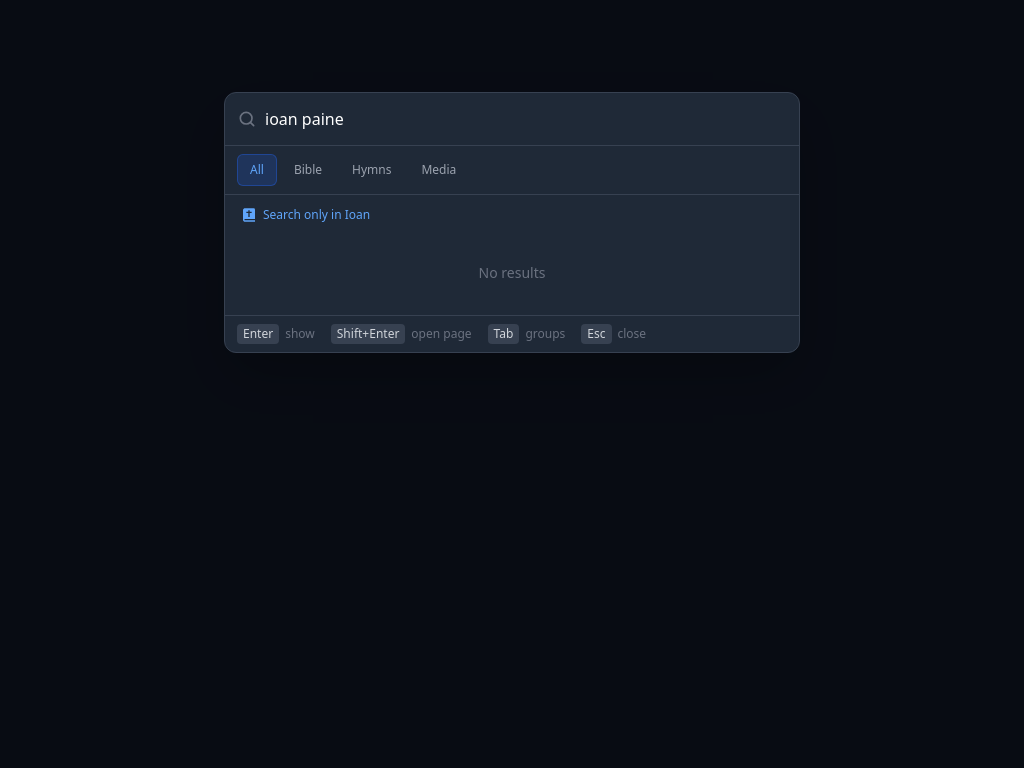
QuickSearch syntax › rewrites the query when the book suggestion is picked
Click the button "Search only in Ioan" at (317, 215), box [233,203,791,227]
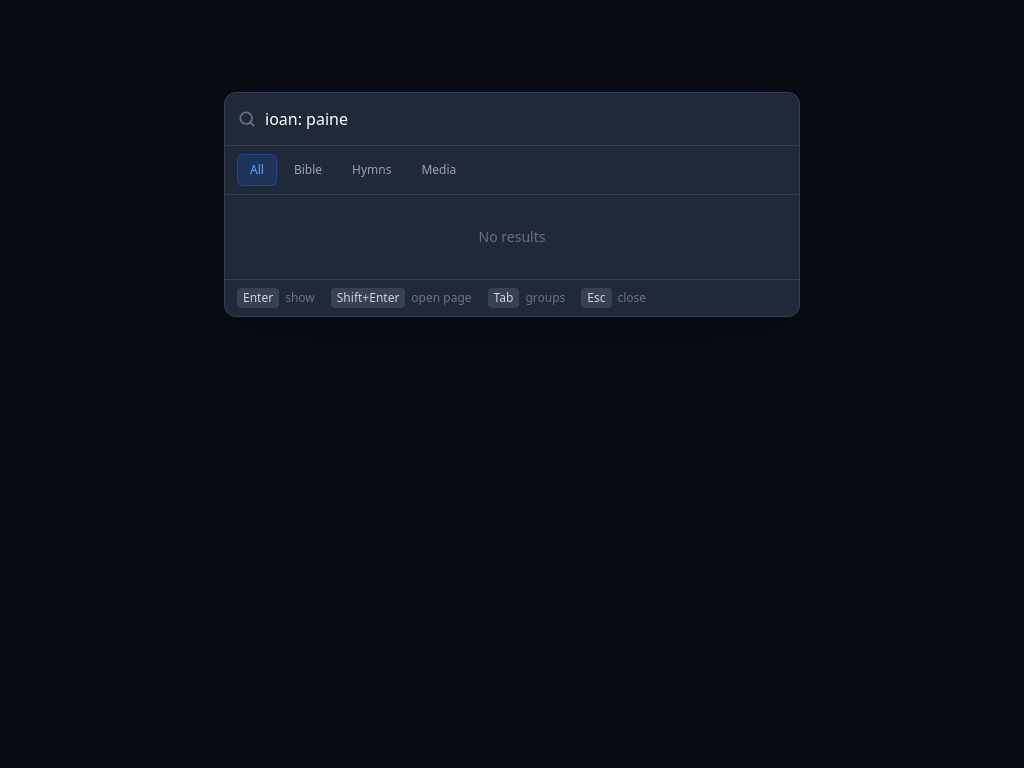
Now the field holds "ioan: paine", box [265,93,787,145]
